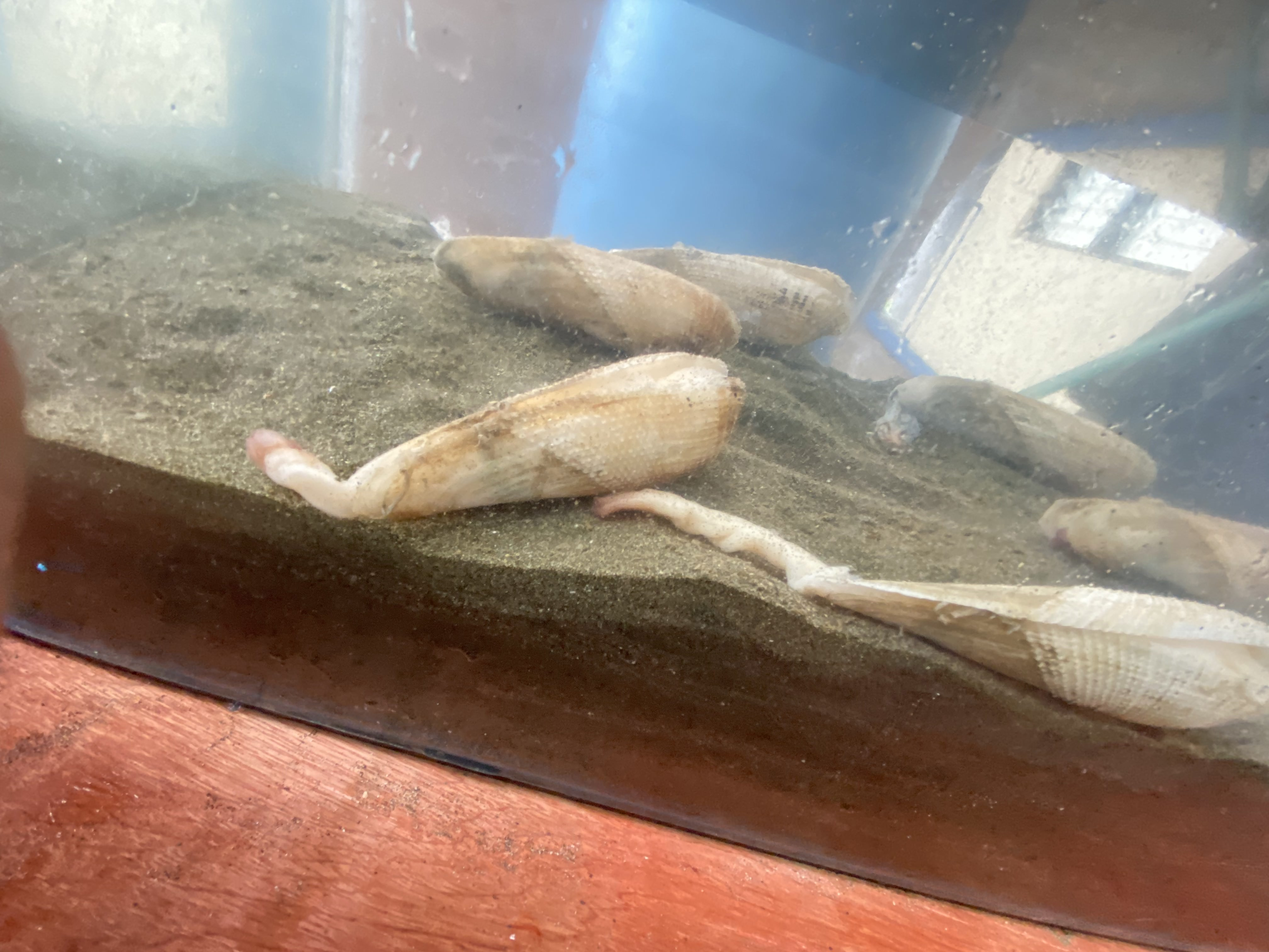At risk: (597, 491, 1269, 728), (248, 354, 743, 518), (434, 236, 740, 355), (875, 376, 1156, 495), (1040, 497, 1269, 617), (612, 244, 854, 346)
